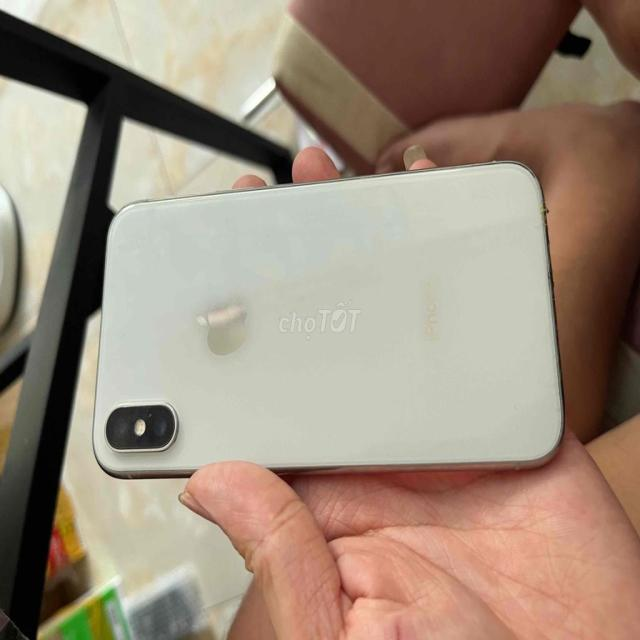gen_x_xs: (65, 158, 577, 508)
